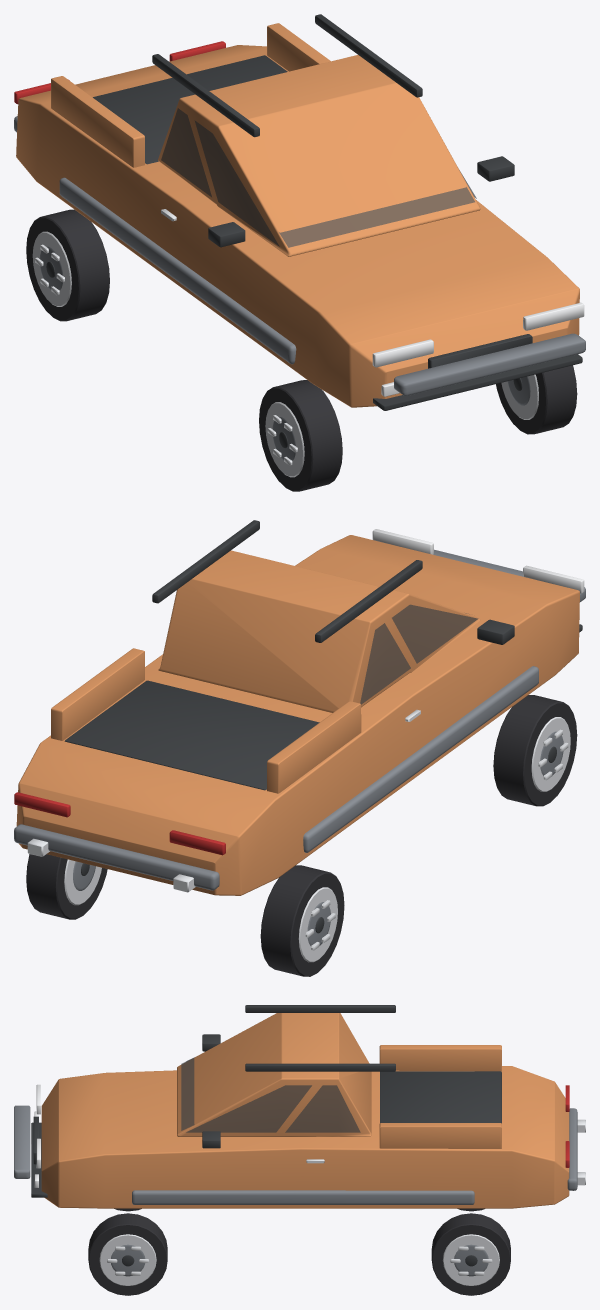
Rendered from expedition-pickup.glb.
The picture shows the model from 3 angles, top to bottom: view 1: azimuth 30°, elevation 25°; view 2: azimuth 150°, elevation 25°; view 3: azimuth 270°, elevation 25°; orthographic projection. The views are drawn at different scales.
Visible parts, largest first — view 1: paint, tyre, trim, accent, glass, rim, head, tail; view 2: paint, trim, tyre, accent, rim, glass, head, tail; view 3: paint, trim, accent, tyre, glass, rim, head.
Part boxes in pixels (box(x1,y1,x2,y2)): paint: box(16, 23, 579, 407); tyre: box(26, 209, 577, 491); trim: box(46, 14, 582, 448); accent: box(14, 116, 585, 460); glass: box(161, 108, 476, 247); rim: box(32, 209, 538, 477); head: box(372, 302, 584, 396); tail: box(14, 41, 225, 104); paint: box(16, 535, 579, 895); trim: box(64, 520, 582, 933); tyre: box(26, 695, 577, 976); accent: box(14, 549, 585, 945); rim: box(27, 709, 570, 962); glass: box(360, 604, 477, 704); head: box(372, 529, 584, 593); tail: box(14, 792, 225, 855); paint: box(41, 1013, 569, 1208); trim: box(31, 1005, 501, 1266); accent: box(14, 1105, 577, 1276); tyre: box(88, 1208, 510, 1295); glass: box(181, 1057, 360, 1132); rim: box(99, 1119, 585, 1285); head: box(34, 1084, 40, 1187).
Bounding box in the file's own units: 2.47 × 2.31 × 5.61.
